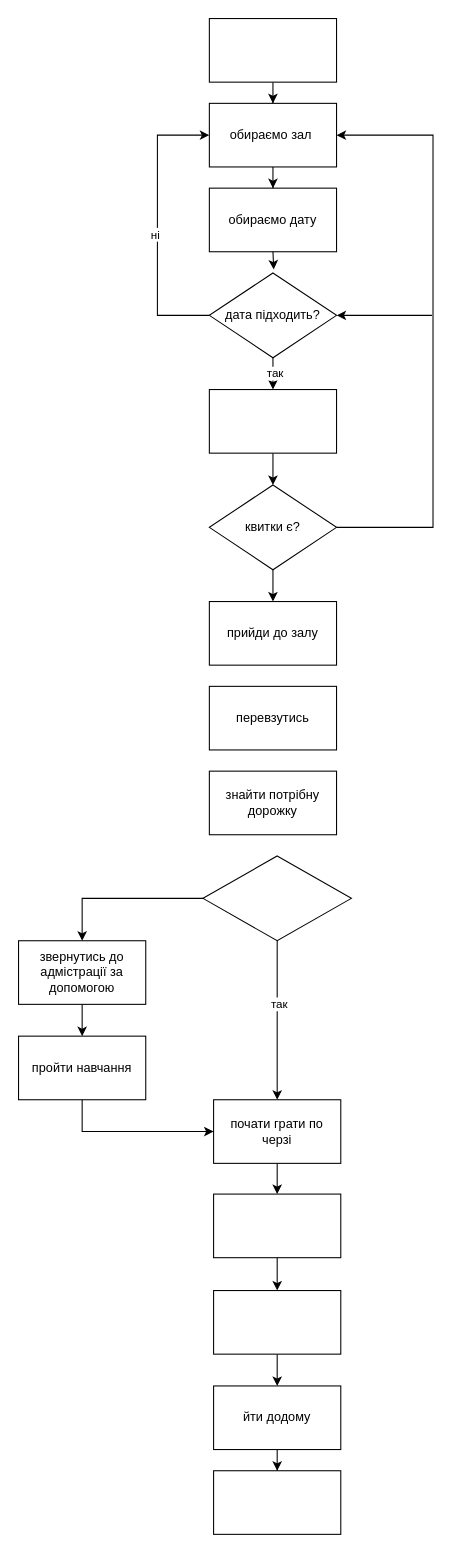
Image size: 460x1553. Some labels were removed from this diagram. The shapes that lost their labels are listed below. From the top down, each one's centre as x and y in pixels, then its label:
(x=272, y=49): почкаток программи
(x=272, y=420): купуємо квитки
(x=276, y=898): чи вмієте грати?
(x=277, y=1225): завершити гру
(x=277, y=1321): повернути взуття
(x=277, y=1502): кінець программи
